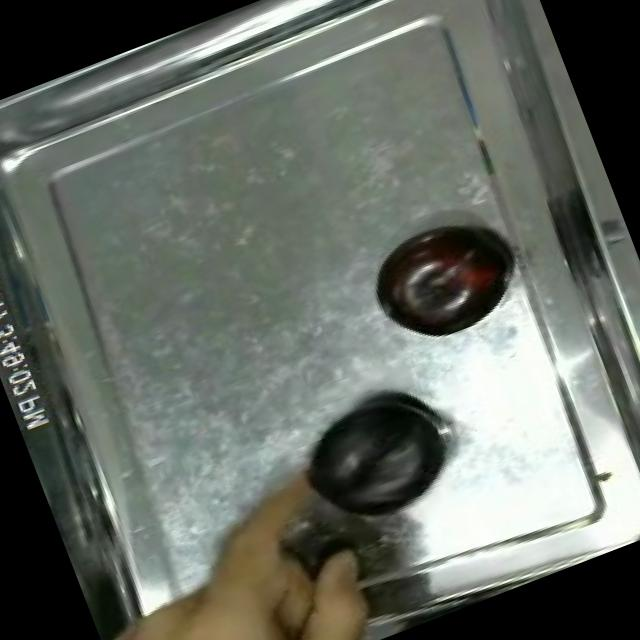Fruit: (282, 372, 468, 541), (352, 200, 527, 356)
